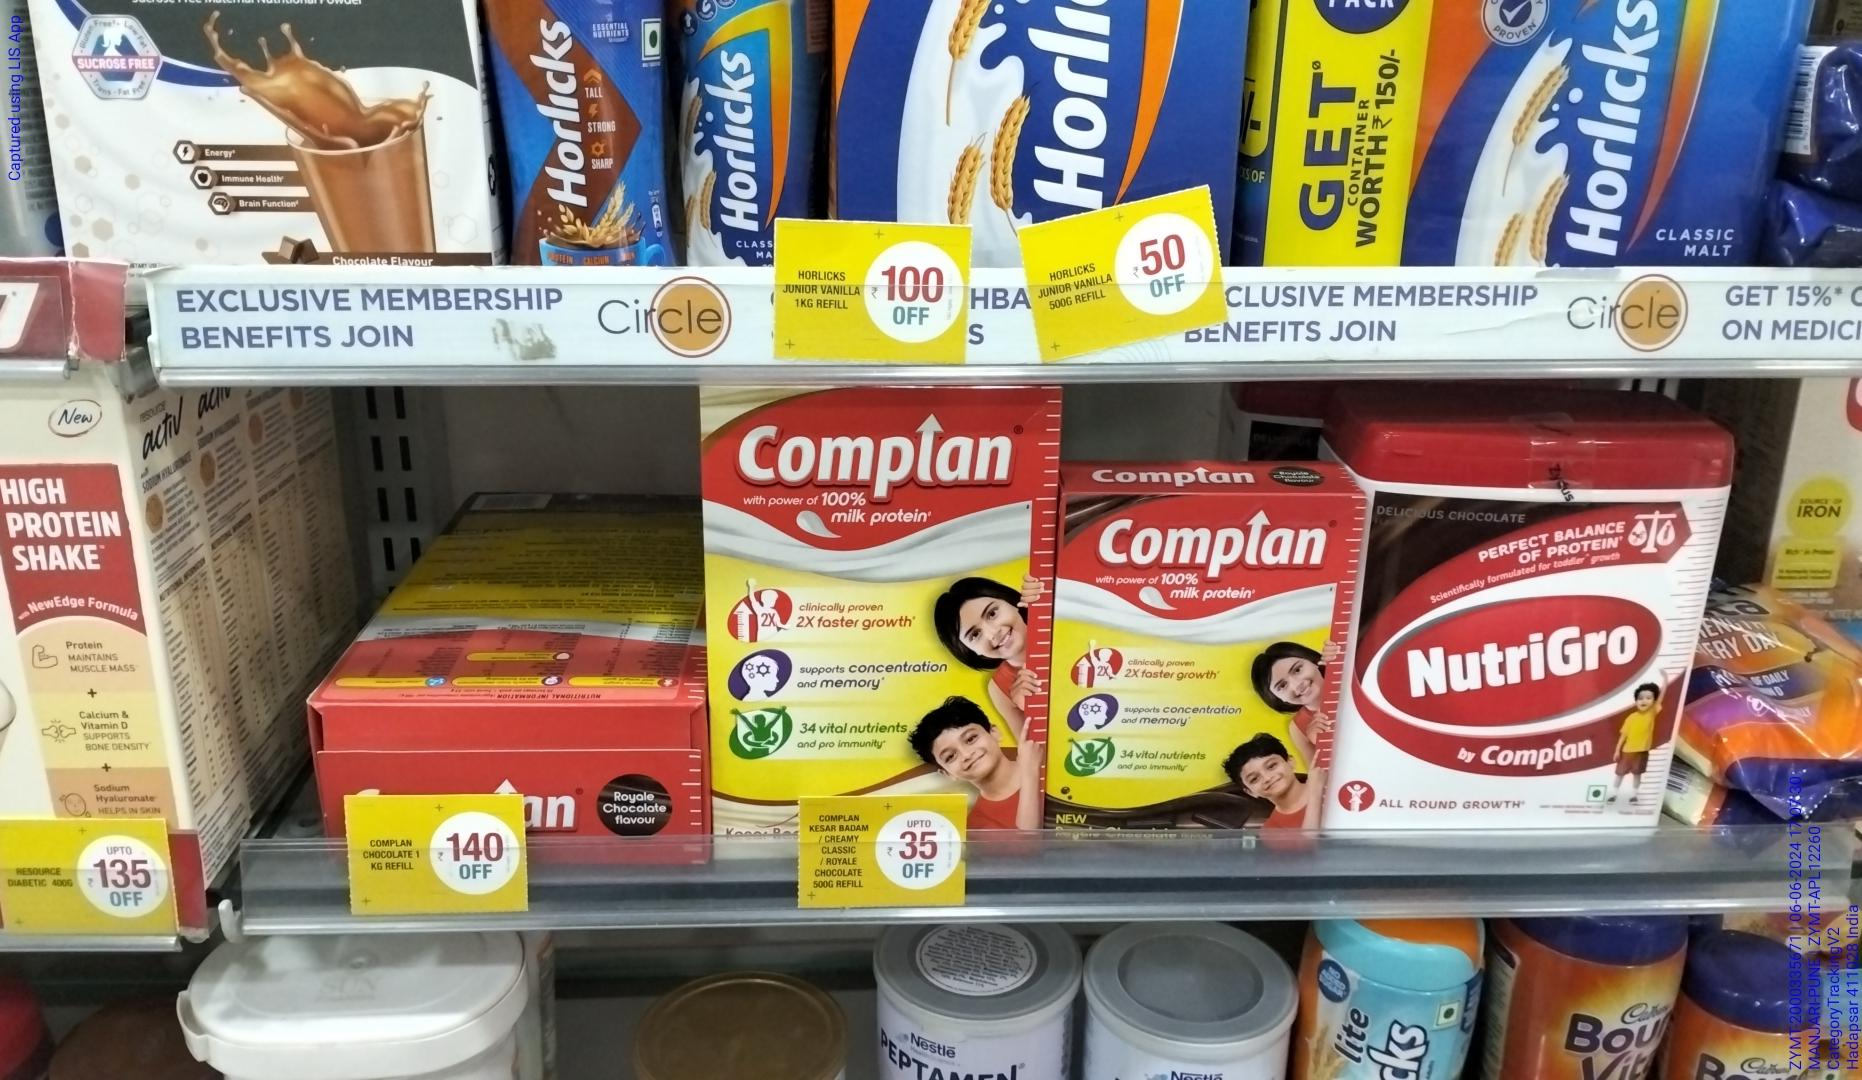COMPLAN_CHOCOLATE_200_GMS_PACK: (1061, 491, 1343, 856)
COMPLAN_KESAR_BADAM_500_GMS_PACK: (703, 390, 1040, 876)
